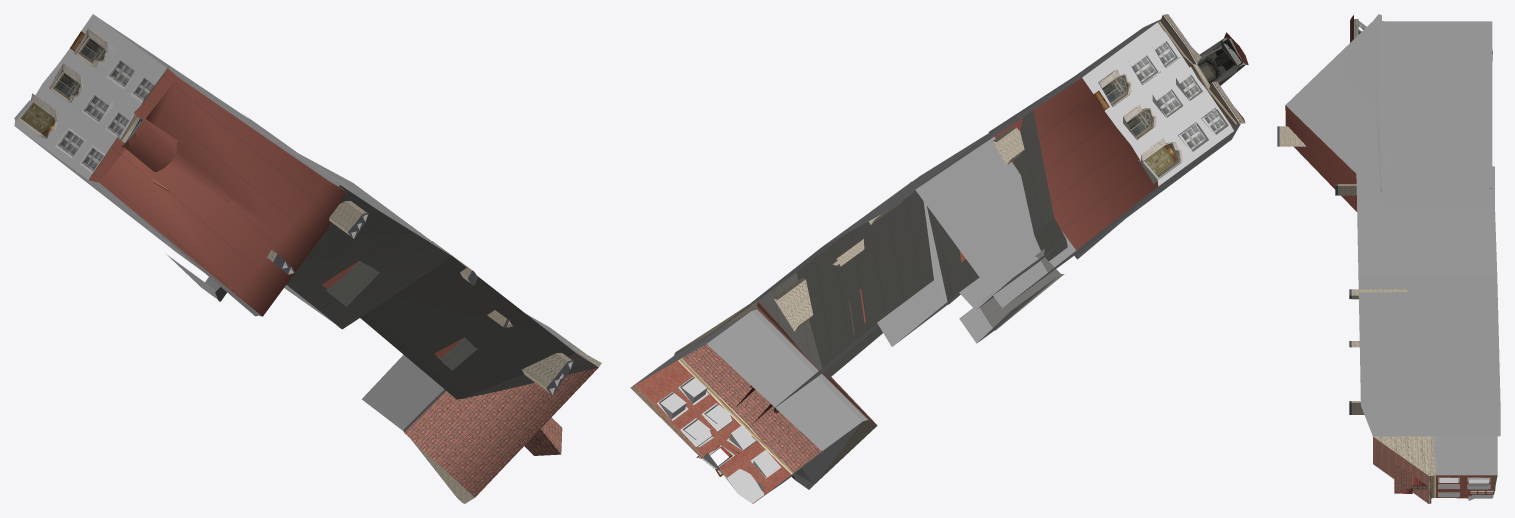
Rendered from Myyrivahe21-origo.obj.
The picture shows the model from 3 angles, left to right: view 1: azimuth 30°, elevation 25°; view 2: azimuth 150°, elevation 25°; view 3: azimuth 270°, elevation 25°; orthographic projection. The views are drawn at different scales.
Visible parts, largest first — view 1: myyrivahe21_b; view 2: myyrivahe21_b; view 3: myyrivahe21_b.
Part boxes in pixels (left/top/right/bottom): myyrivahe21_b: left=14, top=14, right=601, bottom=503; myyrivahe21_b: left=630, top=14, right=1248, bottom=503; myyrivahe21_b: left=1277, top=14, right=1500, bottom=503.
Size of the model in its own units: 40.25 by 38 by 20.38.
